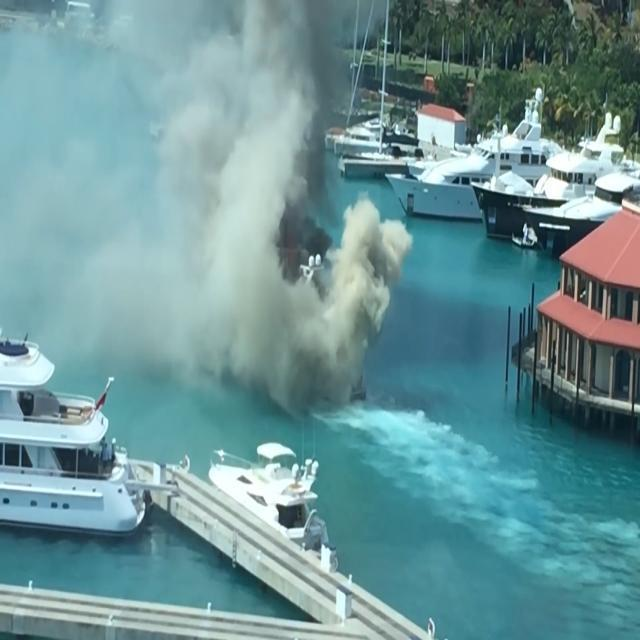Smoke: (193, 123, 334, 389), (332, 197, 407, 369)
